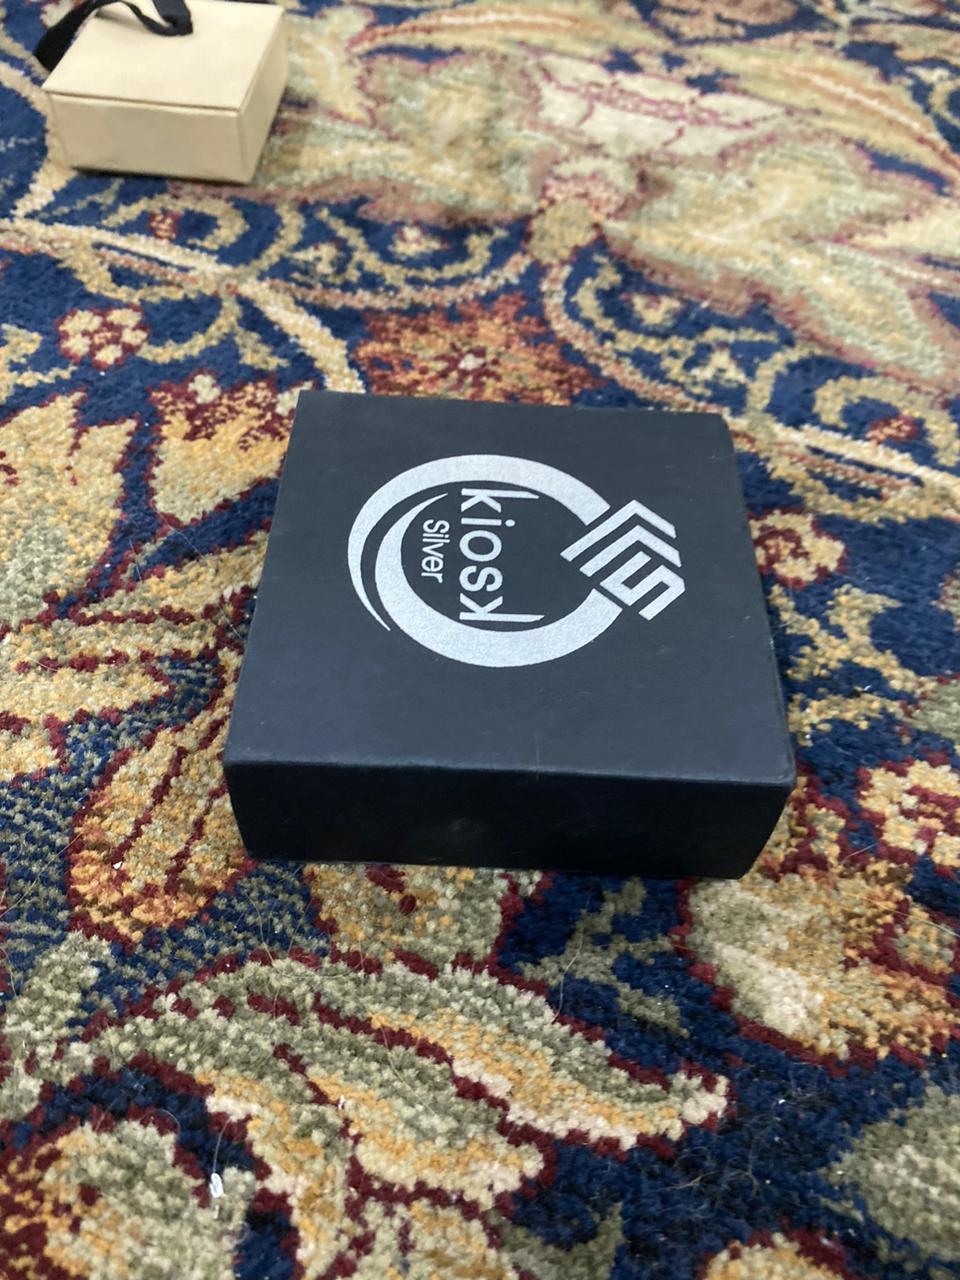Red Box: (216, 387, 799, 889)
Yellow Box: (42, 1, 295, 193)
